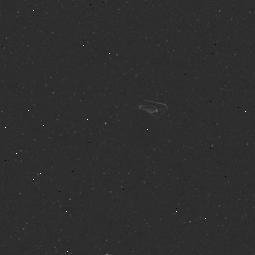proba_3_ocs: (118, 91, 181, 136)
